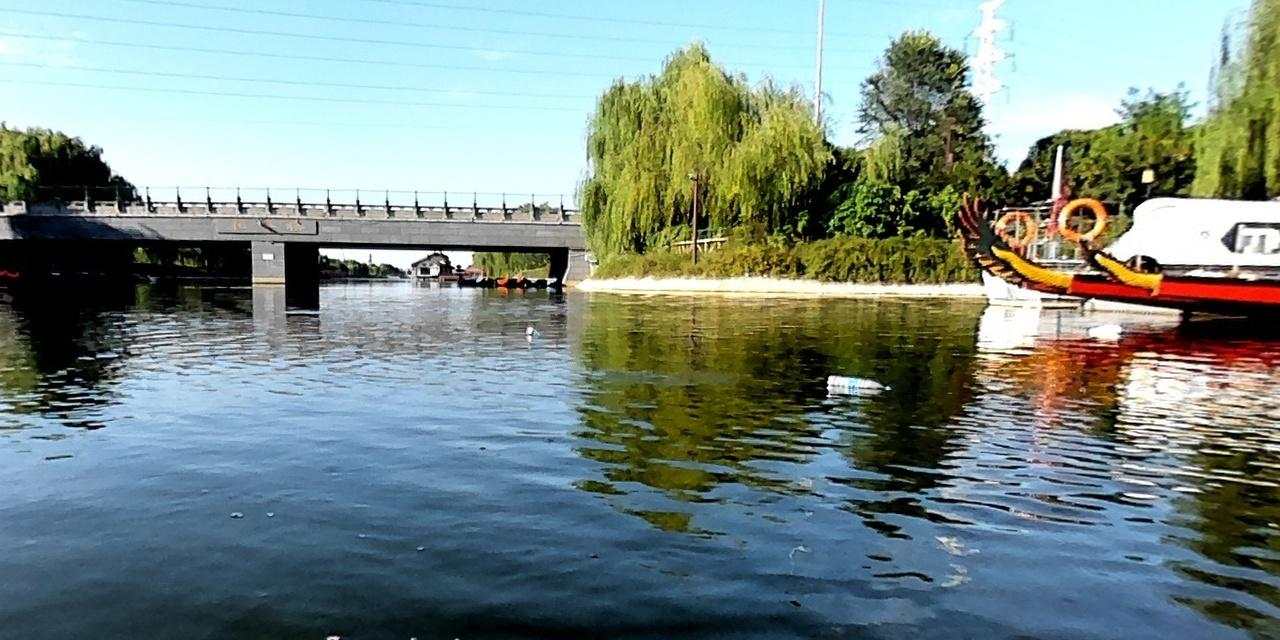bottle: (825, 374, 890, 394), (524, 325, 539, 337)
